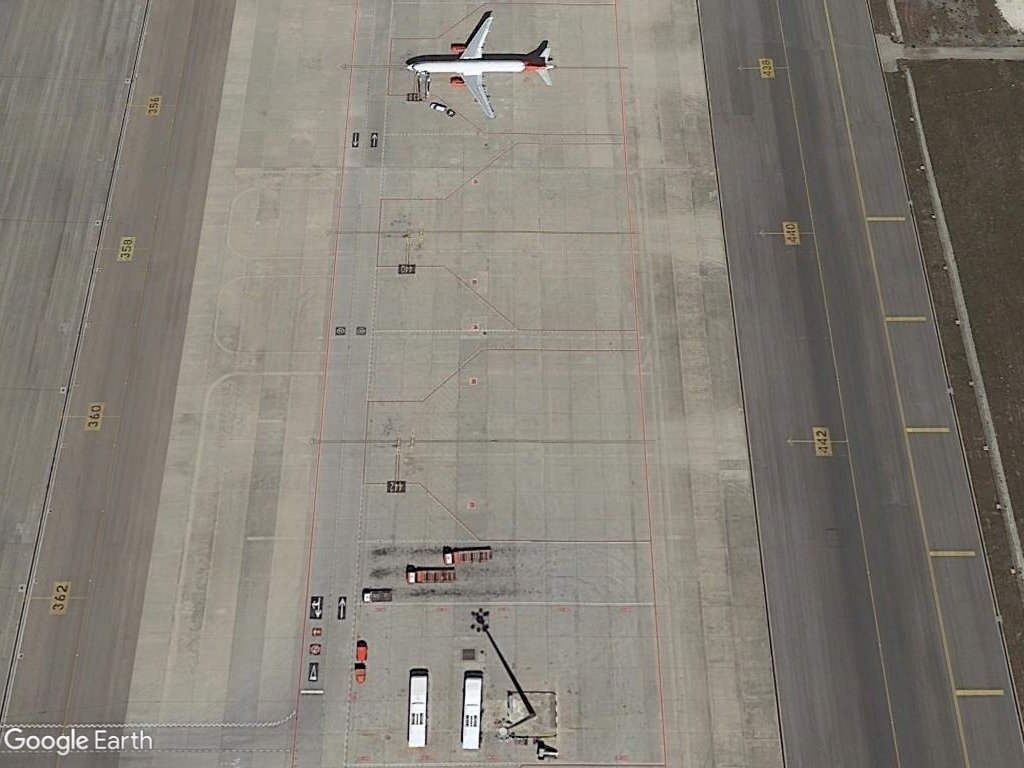airliner: (401, 11, 560, 123)
bus: (404, 666, 432, 752), (460, 667, 483, 753)
